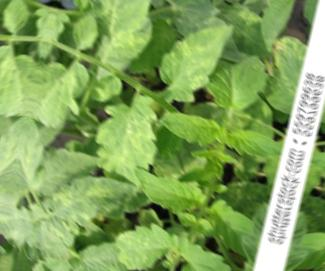Tomato leaf mosaic virus: (77, 89, 166, 212), (150, 10, 235, 115), (73, 0, 164, 79), (48, 167, 136, 237), (22, 137, 105, 211), (204, 44, 274, 121), (26, 57, 93, 137), (124, 162, 209, 220), (103, 216, 185, 271), (151, 104, 225, 151), (163, 235, 252, 271), (248, 0, 297, 56), (220, 123, 283, 165), (68, 14, 101, 55)
